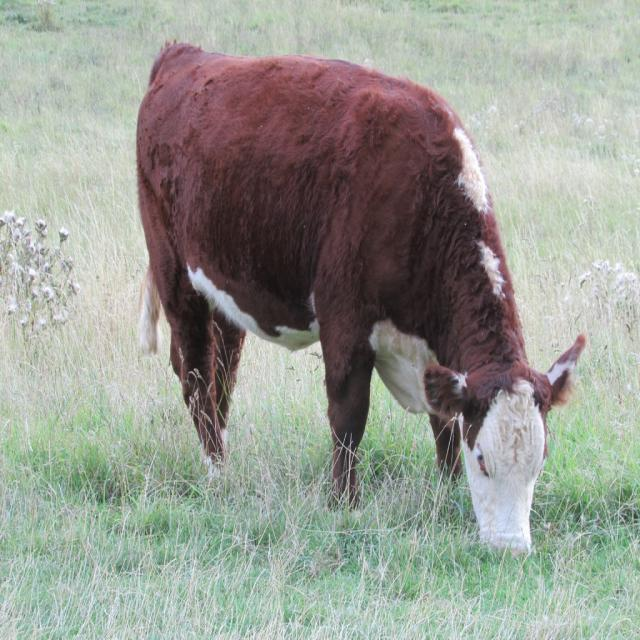Cattle: (136, 38, 586, 560)
